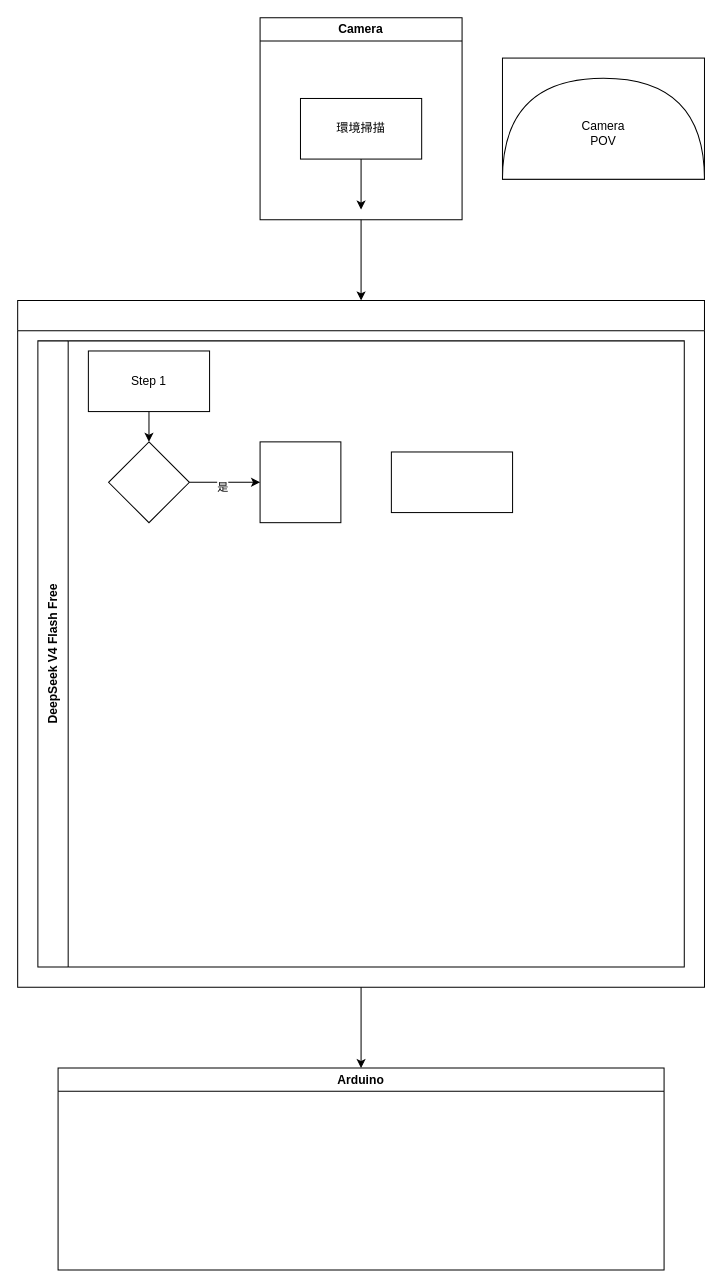
The diagram is 722 pixels wide and 1288 high, and some of its shapes have lost their labels. The shapes that lost their labels are listed below. From the top down, each one's centre as x and y in pixels, then its label:
At (148,482): "第一次執行".
At (300,482): "初始化環境網格地圖".
At (451,482): "使用Yolo判斷前方障礙與建築環境".
